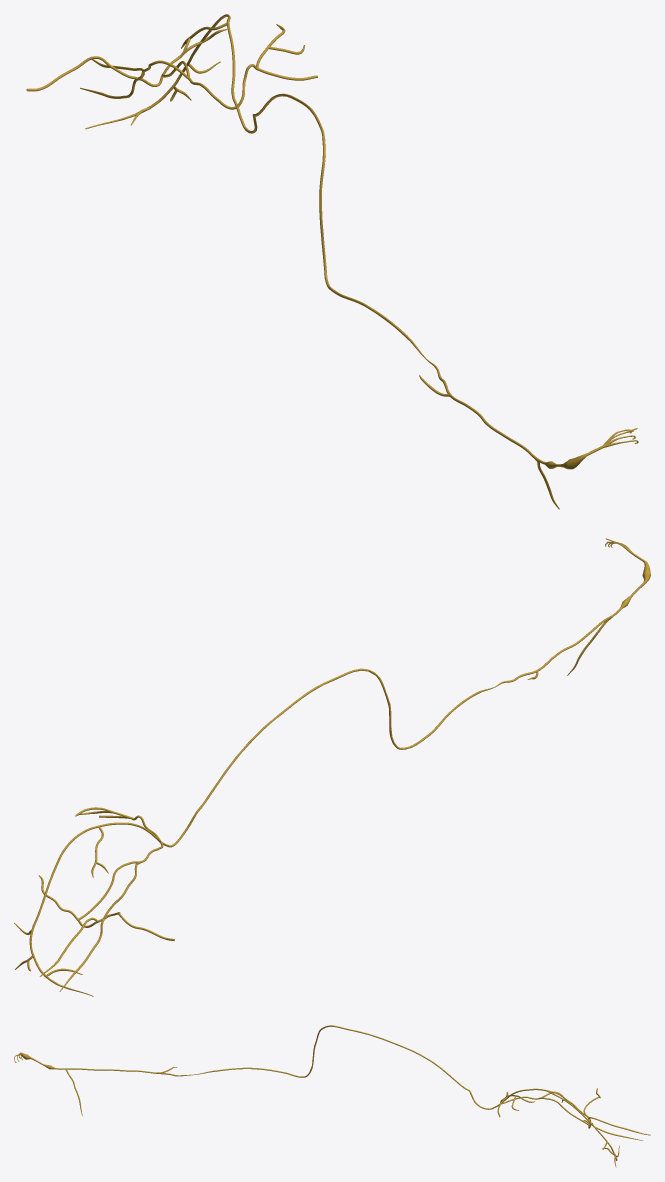
3 renders of one model, top to bottom at view 1: azimuth 30°, elevation 25°; view 2: azimuth 150°, elevation 25°; view 3: azimuth 270°, elevation 25°, orthographic. The views are drawn at different scales.
Parts seen in each view (by area): view 1: 右侧迷走神经; view 2: 右侧迷走神经; view 3: 右侧迷走神经.
Boxes of the visible parts, box(x1,y1,x2,y2) form: 右侧迷走神经: box(26, 14, 638, 509); 右侧迷走神经: box(14, 538, 650, 996); 右侧迷走神经: box(14, 1025, 650, 1167).
Bounding box in the file's own units: 0.1455 × 0.1306 × 0.6939.
